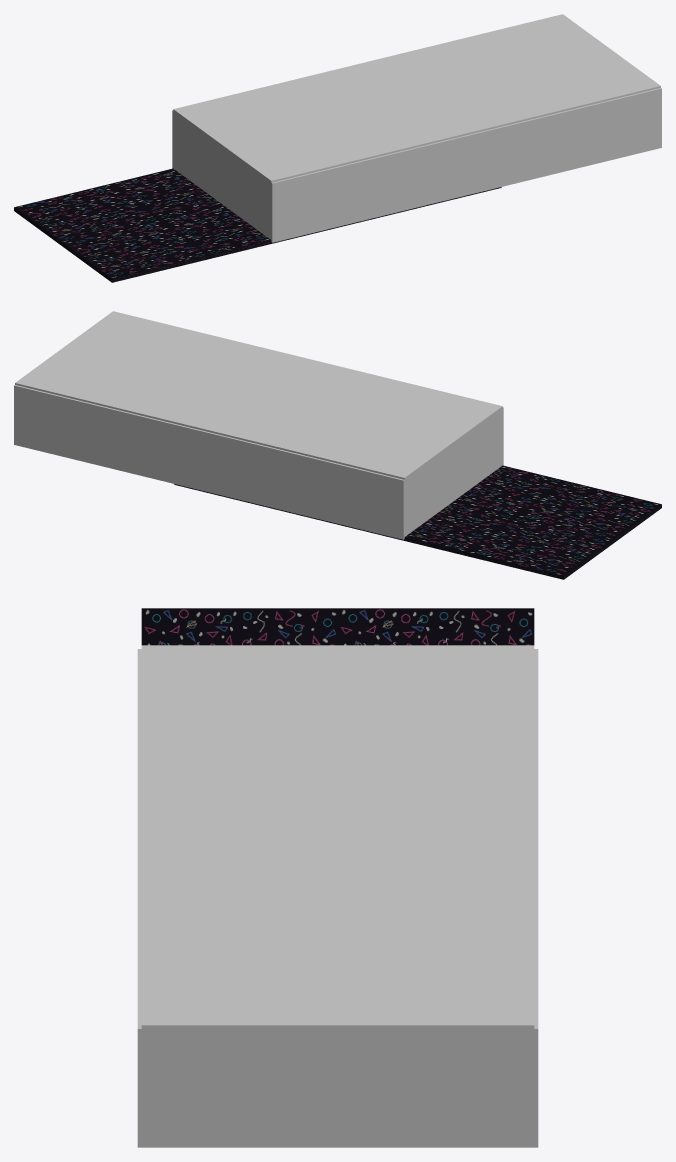
3 renders of one model, top to bottom at view 1: azimuth 30°, elevation 25°; view 2: azimuth 150°, elevation 25°; view 3: azimuth 270°, elevation 25°, orthographic. The views are drawn at different scales.
Visible parts, largest first — view 1: Ceiling, Right_Wall, Floor, Front_Wall; view 2: Ceiling, Left_Wall, Floor, Front_Wall; view 3: Ceiling, Back_Wall, Floor, Right_Wall, Left_Wall.
Part boxes in pixels (bbox=[...]): Ceiling: bbox=[173, 14, 660, 182]; Right_Wall: bbox=[270, 88, 661, 242]; Floor: bbox=[14, 168, 501, 282]; Front_Wall: bbox=[173, 111, 271, 238]; Ceiling: bbox=[15, 311, 502, 479]; Left_Wall: bbox=[14, 385, 405, 539]; Floor: bbox=[174, 465, 661, 579]; Front_Wall: bbox=[404, 408, 502, 535]; Ceiling: bbox=[141, 645, 534, 1032]; Back_Wall: bbox=[141, 1029, 534, 1147]; Floor: bbox=[141, 608, 534, 645]; Right_Wall: bbox=[137, 649, 145, 1147]; Left_Wall: bbox=[530, 649, 538, 1147].
Bounding box in the file's own units: 7750 × 850 × 2450.
